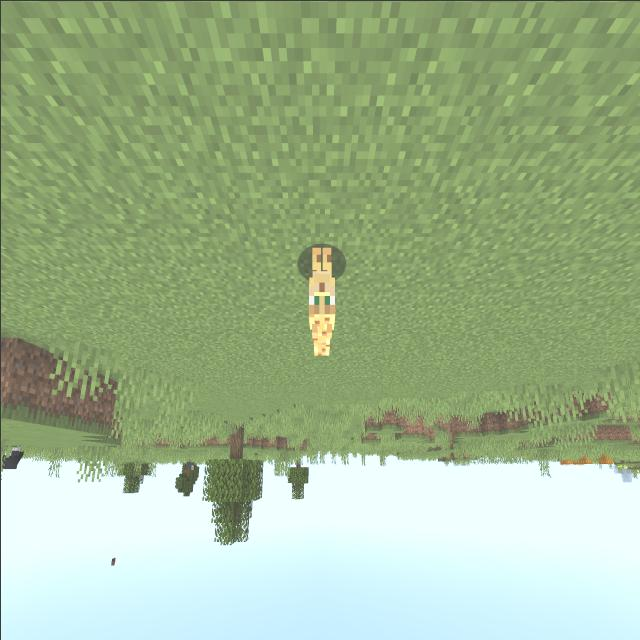Ocelot: (302, 230, 341, 370)
